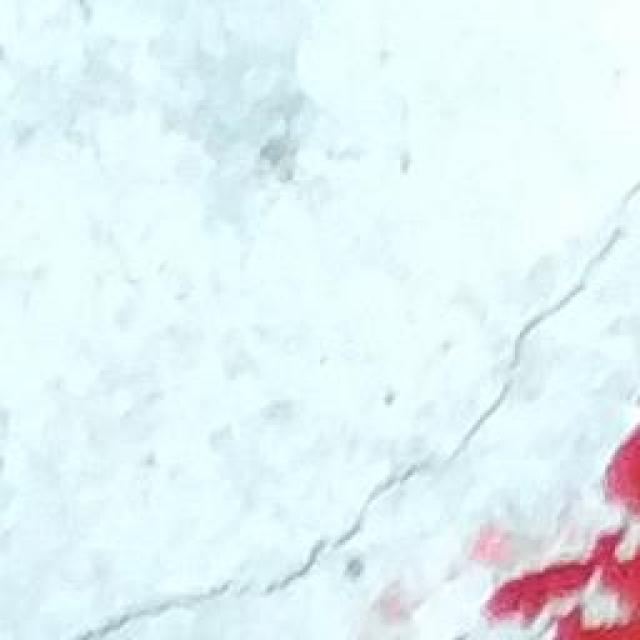Diagonal: (0, 170, 640, 640)
